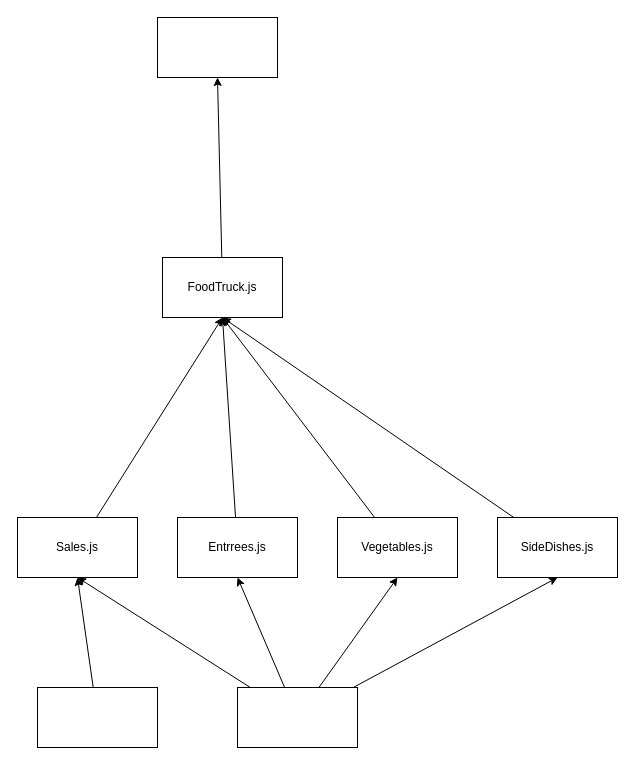
This 635x765 diagram has some shape labels left out. The centre of each missing label's shape, as x and y in pixels:
API: (297,717)
Main.js: (217,47)
TransientState.js: (97,717)
